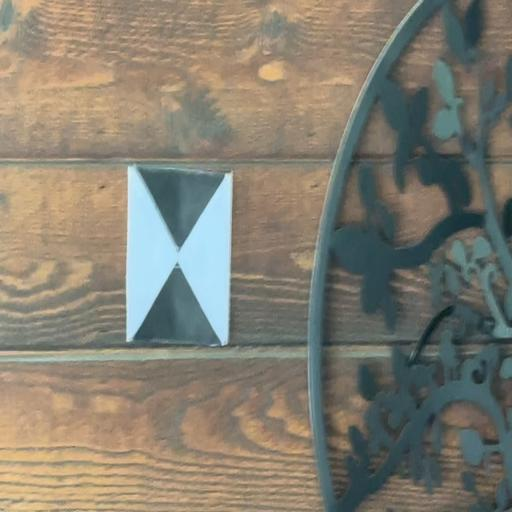target: (127, 164, 232, 346)
